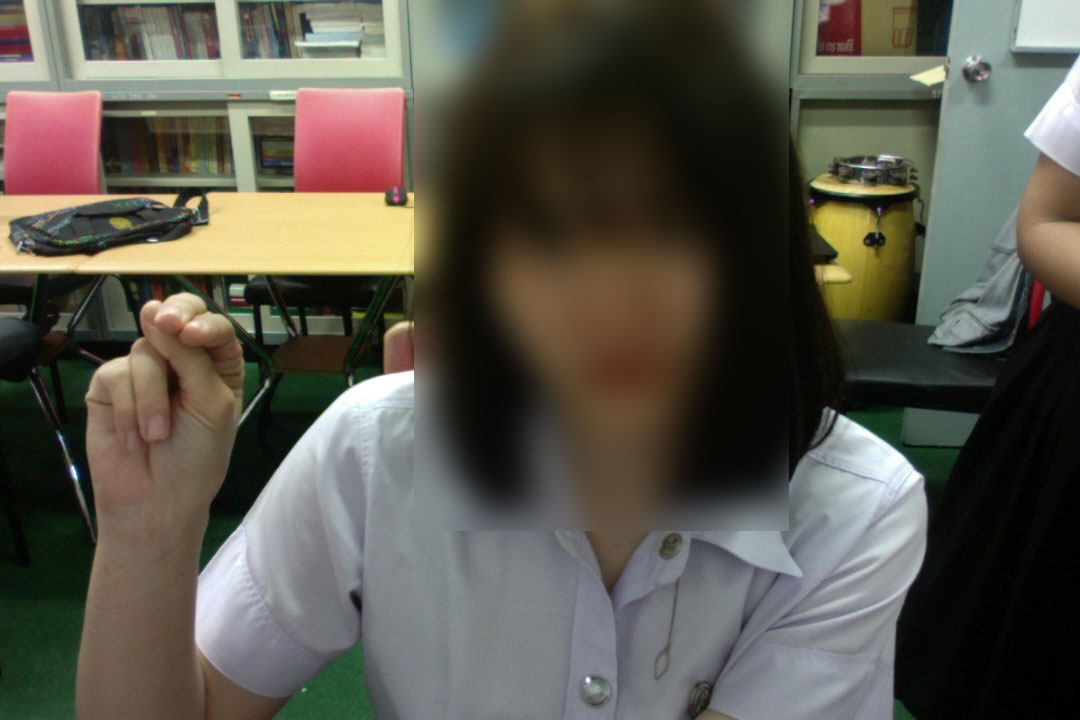nor: (76, 284, 253, 546)
